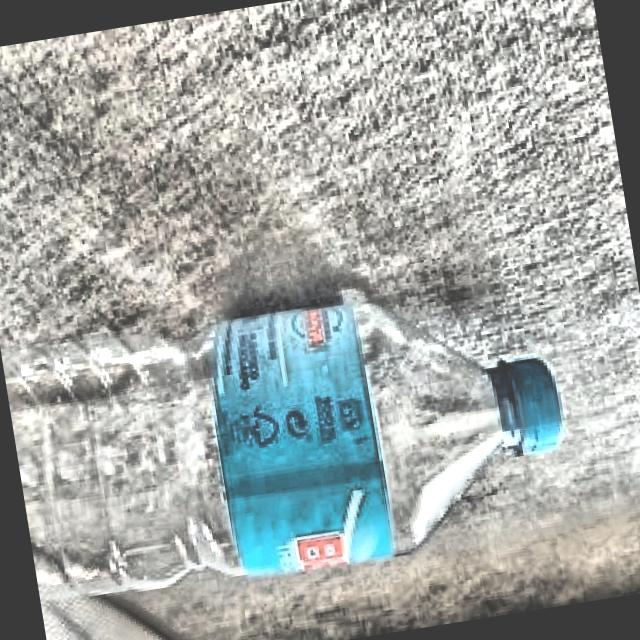plastic bottle: (1, 288, 562, 591)
